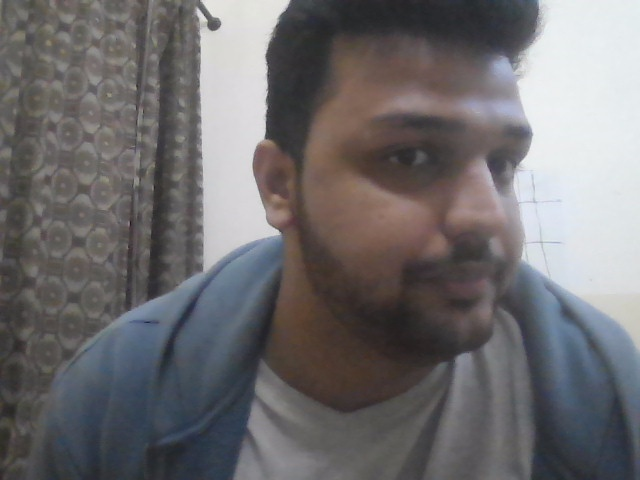awake: (229, 22, 629, 399)
